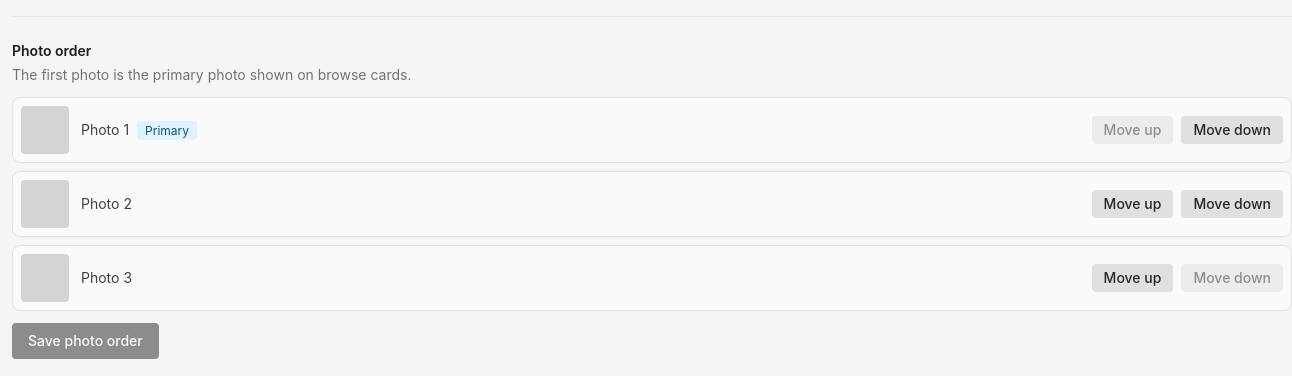
Test case: GalleryOrderEditor (backlog #162) › moving a photo and moving it back leaves Save disabled (no no-op PUT)
Click the button with aria-label "Move photo 2 up" at (1132, 204), box [1092,190,1173,218]
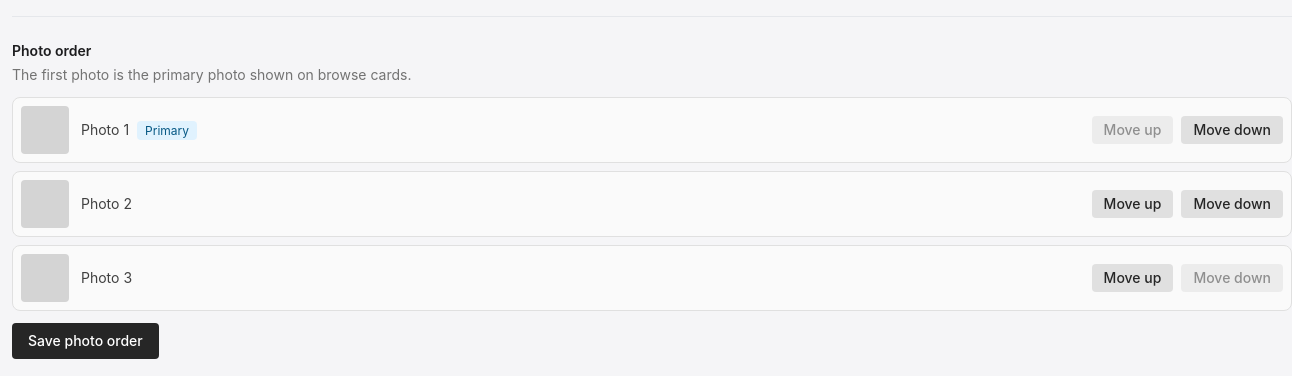
Click the button with aria-label "Move photo 1 down" at (1232, 130), box [1181,116,1283,144]
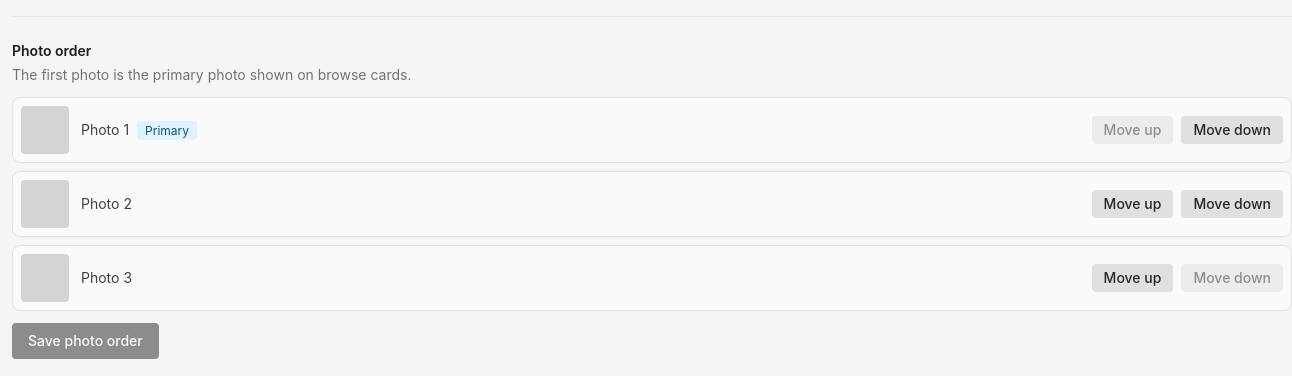
Expected: the button "Save photo order" is disabled, [12,323,159,359]
